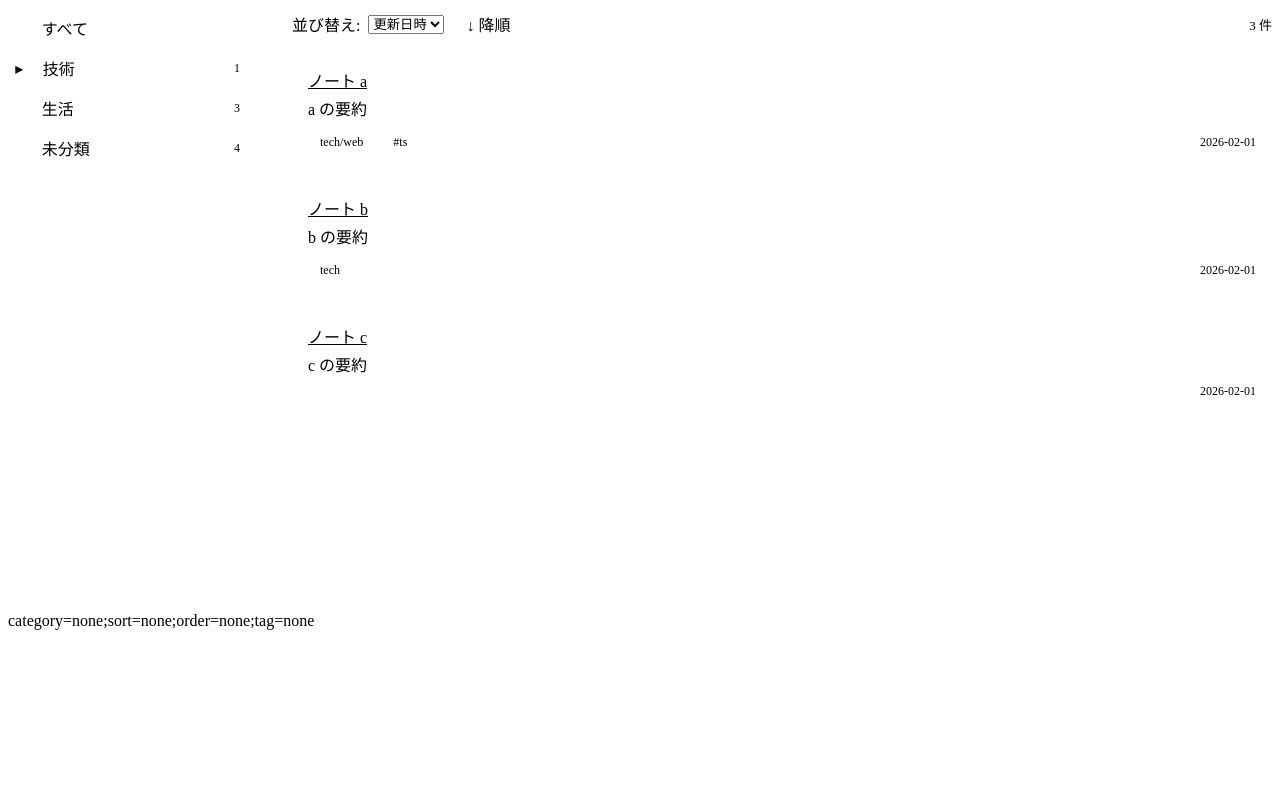
Test case: CategoryTree — 折りたたみ状態の localStorage 永続化 › localStorage に保存済みの折りたたみ状態を初期表示で復元する
Expected: the button named "技術 のノート件数" is shown, left=31, top=48, right=252, bottom=88
Click the button named "技術 を展開" at [19, 68], box left=8, top=52, right=31, bottom=84
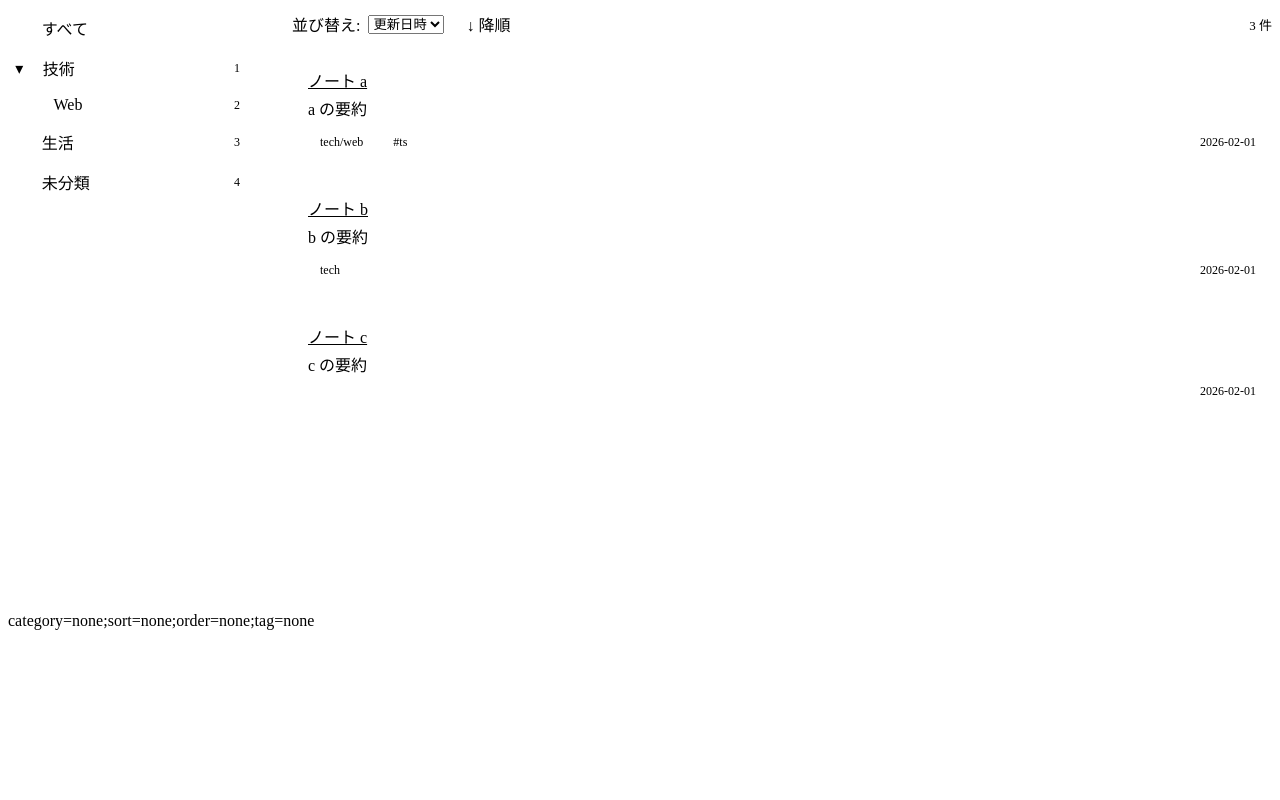
Expected: the button named "Web のノート件数" is shown, left=42, top=88, right=252, bottom=122
